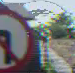Don't turn left: (0, 7, 37, 69)
